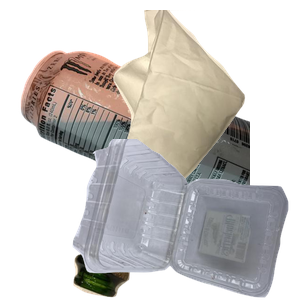glass: (71, 152, 260, 300)
metal: (18, 48, 258, 228)
plastic: (70, 139, 300, 300)
trash: (111, 10, 300, 190)
